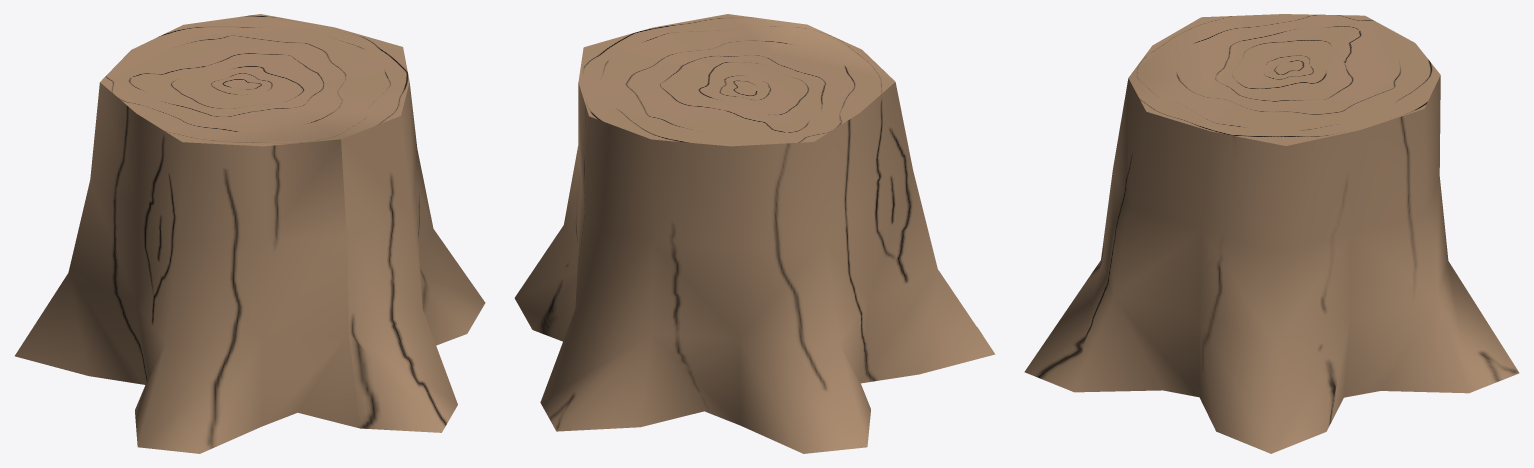
The model's file is tree_stump.fbx.
3 renders of one model, left to right at view 1: azimuth 30°, elevation 25°; view 2: azimuth 150°, elevation 25°; view 3: azimuth 270°, elevation 25°, orthographic. The views are drawn at different scales.
Parts seen in each view (by area): view 1: tree_stump; view 2: tree_stump; view 3: tree_stump.
Boxes of the visible parts, x1,y1,x2,y2 form: tree_stump: [15, 14, 485, 453]; tree_stump: [514, 14, 995, 453]; tree_stump: [1024, 14, 1519, 453].
Bounding box in the file's own units: 48.97 × 30.87 × 50.96.
